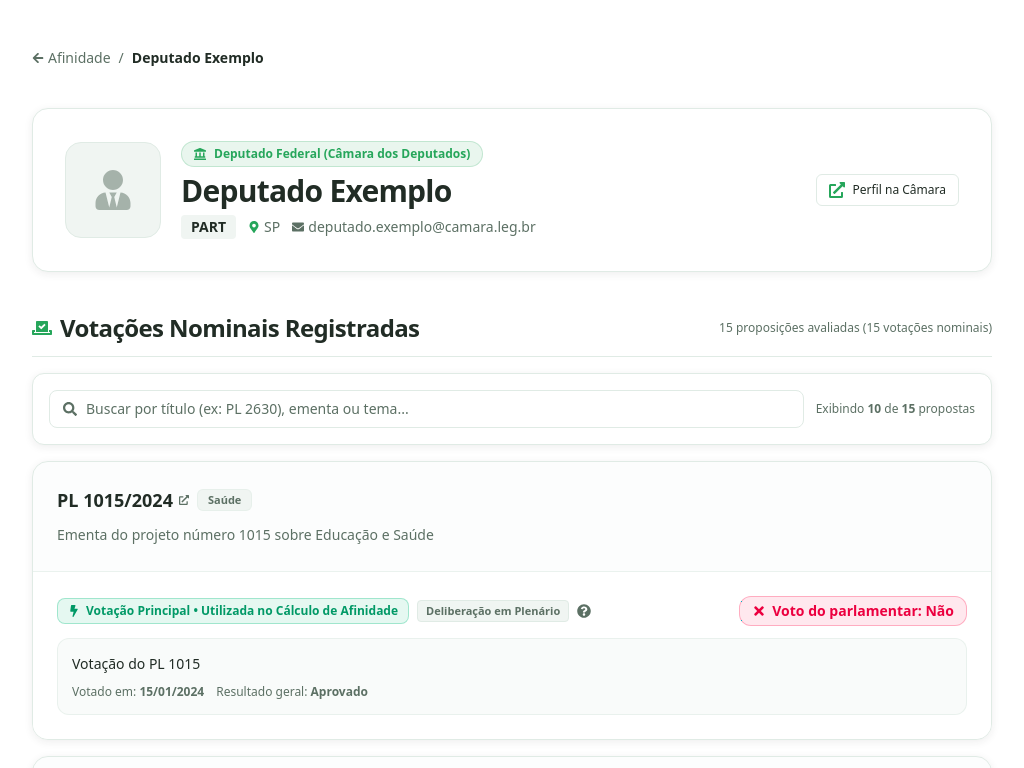
Test case: PoliticianDetailsClient - Paginação, Busca e Ordenação › exibe mensagem amigável quando nenhuma proposição corresponde à busca
The width and height of the screenshot is (1024, 768).
Type "TermoInexistenteXYZ" into the field with placeholder "Buscar por título (ex: PL 2630), ementa ou tema..." at (426, 409), box [49, 390, 804, 428]
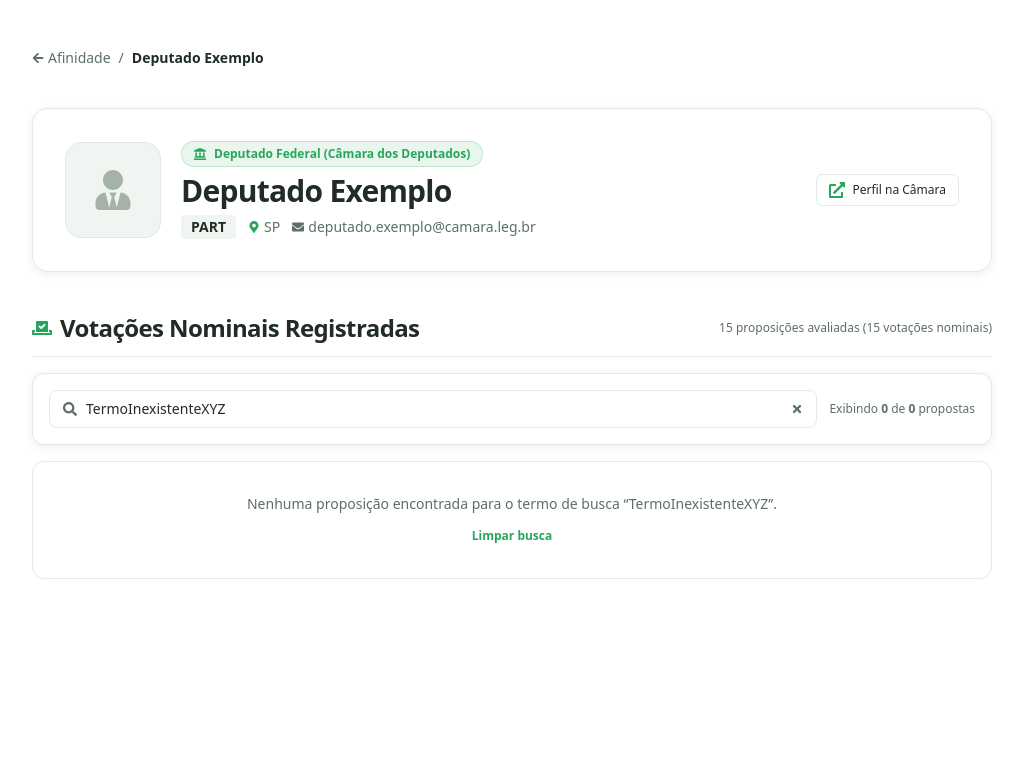
Expected: the text "Nenhuma proposição encontrada para o termo de busca" is shown, [247, 494, 629, 513]
